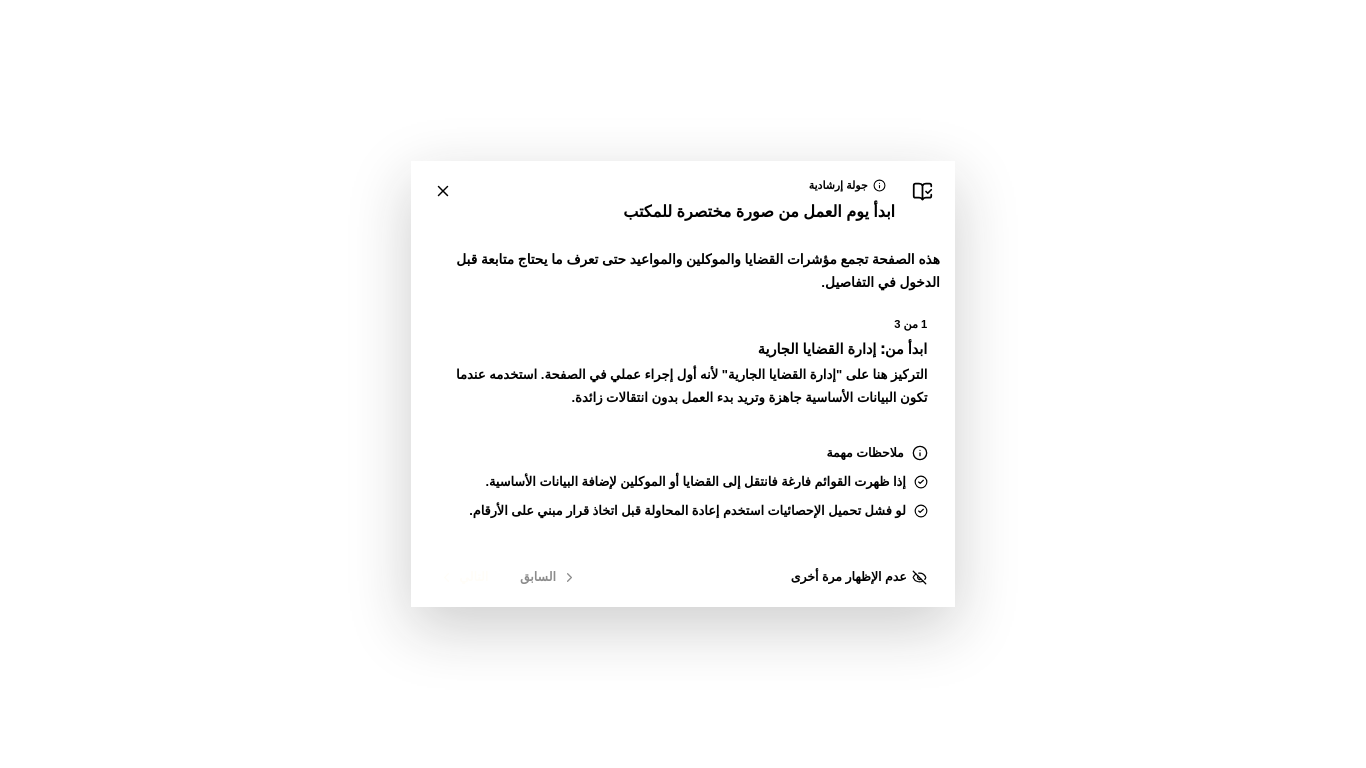
Test: PageGuidance › stores permanent dismissal and hides the current page guidance
Click the button "عدم الإظهار مرة أخرى". click: point(859, 577)
box: top-left (778, 559), bottom-right (940, 595)
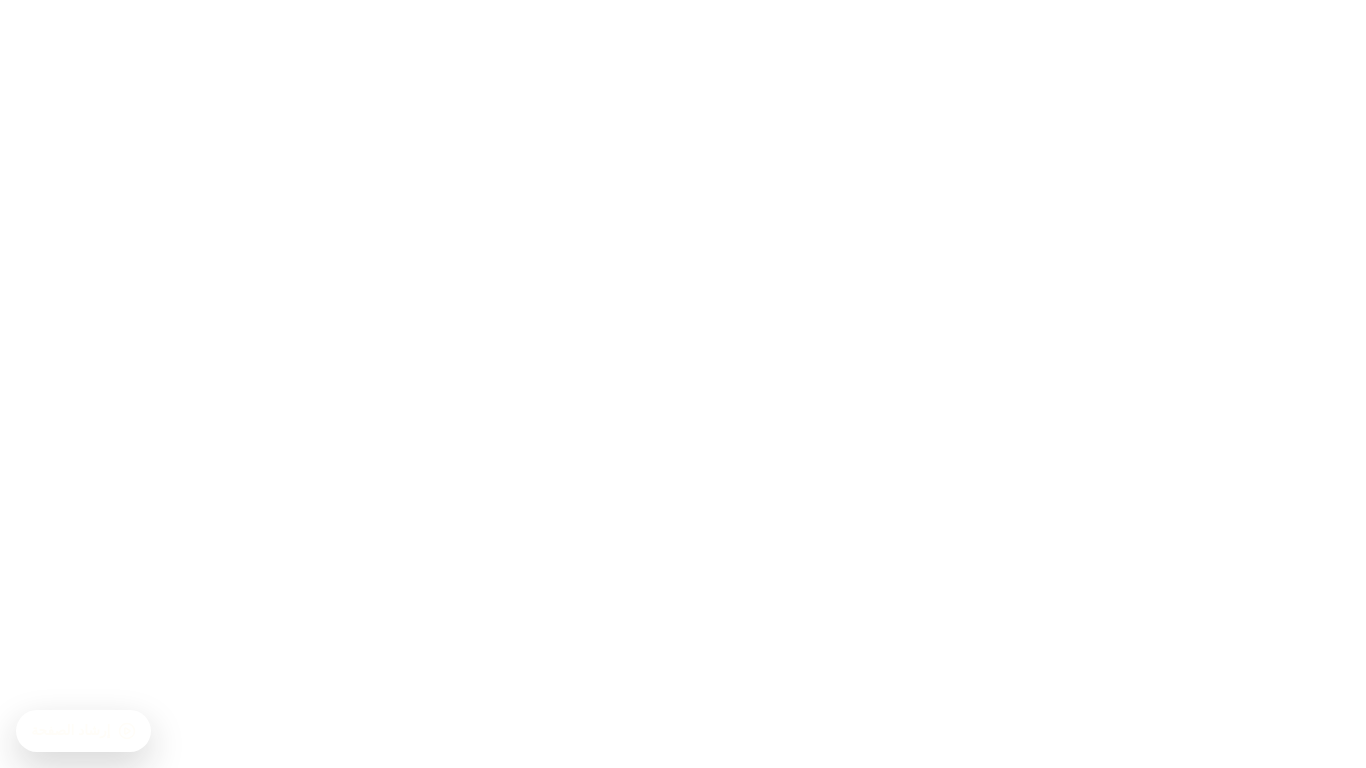
Result: the dialog is gone
Result: the button with aria-label "فتح إرشاد الصفحة" is shown at top-left (16, 710), bottom-right (151, 752)
